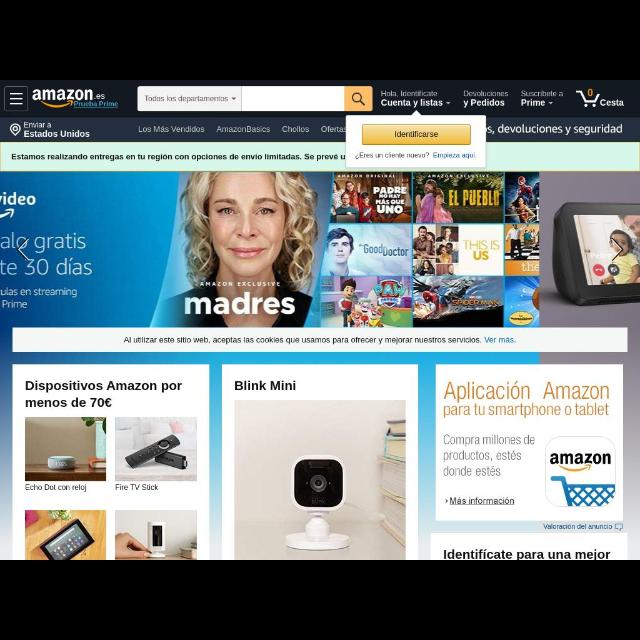button: (346, 87, 374, 111), (6, 86, 28, 112)
icon: (574, 89, 600, 108), (10, 91, 24, 105), (352, 92, 366, 106), (8, 122, 20, 138), (444, 100, 452, 106), (548, 100, 554, 106), (232, 96, 236, 100)
iframe: (436, 364, 624, 522)
image: (1, 172, 639, 326), (234, 401, 406, 559), (115, 416, 197, 482), (26, 417, 106, 481), (115, 510, 197, 560), (25, 510, 105, 560), (34, 88, 104, 109)
input: (242, 87, 346, 111)
link: (74, 100, 118, 110)
multitab: (1, 116, 639, 142)
spinner: (138, 85, 242, 111), (382, 89, 452, 107), (520, 96, 556, 110)
text: (26, 378, 182, 409), (124, 336, 516, 346), (11, 153, 346, 161), (442, 550, 610, 560), (486, 126, 624, 136), (23, 120, 91, 140), (381, 89, 444, 107), (354, 151, 480, 159), (462, 88, 510, 108), (145, 93, 229, 103), (235, 380, 297, 392), (24, 483, 88, 493), (217, 124, 270, 134), (138, 125, 204, 133), (115, 483, 162, 493), (393, 130, 439, 138), (520, 89, 564, 97), (322, 125, 348, 133), (522, 99, 544, 108), (600, 98, 624, 106), (280, 126, 310, 132)
textbutton: (362, 125, 471, 143)
toolbar: (1, 81, 639, 117)
